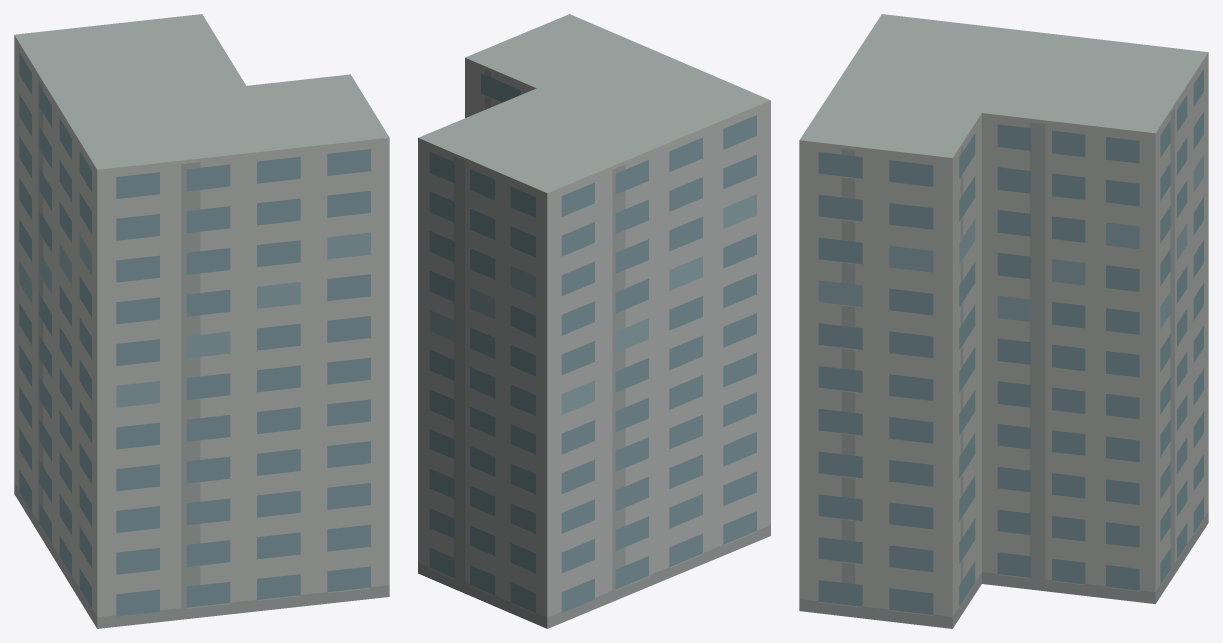
The model's file is residential-f9d2ecc9-8dfa-4bd2-8f7a-500cc769154d.glb.
3 renders of one model, left to right at view 1: azimuth 30°, elevation 25°; view 2: azimuth 150°, elevation 25°; view 3: azimuth 270°, elevation 25°, orthographic. The views are drawn at different scales.
Visible parts, largest first — view 1: residential-f9d2ecc9-8dfa-4bd2-8f7a-500cc769154d.tmp; view 2: residential-f9d2ecc9-8dfa-4bd2-8f7a-500cc769154d.tmp; view 3: residential-f9d2ecc9-8dfa-4bd2-8f7a-500cc769154d.tmp.
Boxes of the visible parts, box(x1,y1,x2,y2) form: residential-f9d2ecc9-8dfa-4bd2-8f7a-500cc769154d.tmp: box(14, 14, 389, 628); residential-f9d2ecc9-8dfa-4bd2-8f7a-500cc769154d.tmp: box(418, 14, 770, 628); residential-f9d2ecc9-8dfa-4bd2-8f7a-500cc769154d.tmp: box(799, 14, 1208, 628).
Size of the model in its own units: 20.35 by 31 by 24.42.
